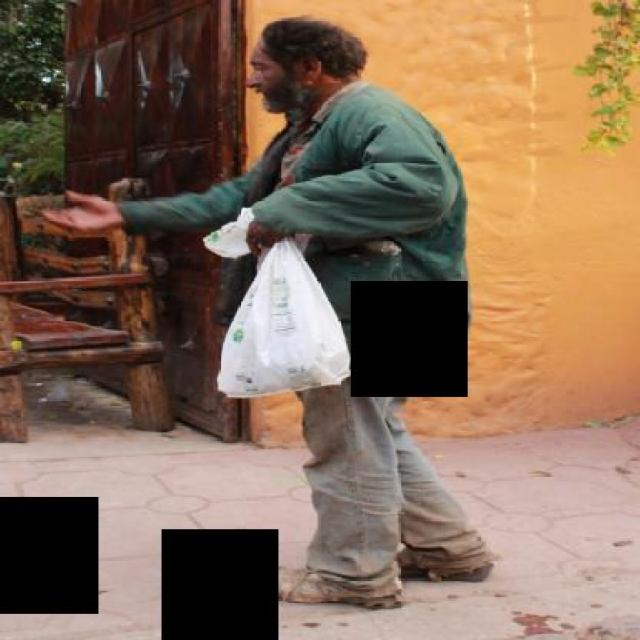plastic bag: (196, 202, 350, 398)
